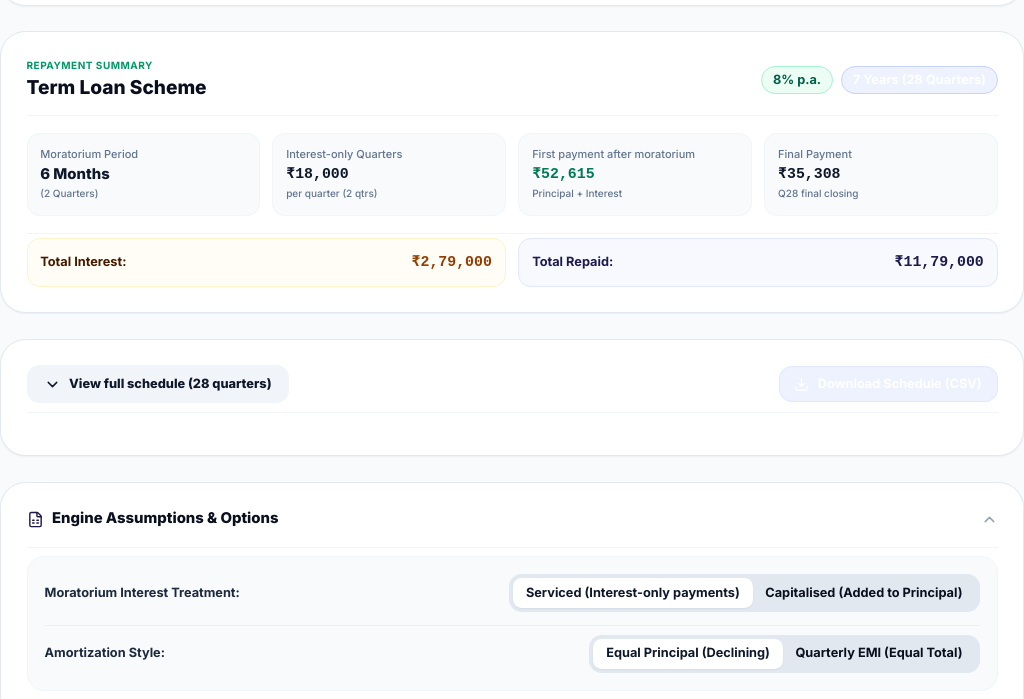
Test: SchemeLoanBreakdown Component › opens schedule on toggle, groups rows by year, verifies year totals equal sum of quarters, and marks moratoriums
(page scrolled)
Click toggle to open schedule
Click the button with test id "toggle-full-schedule" at (158, 384), box [26,365,288,404]
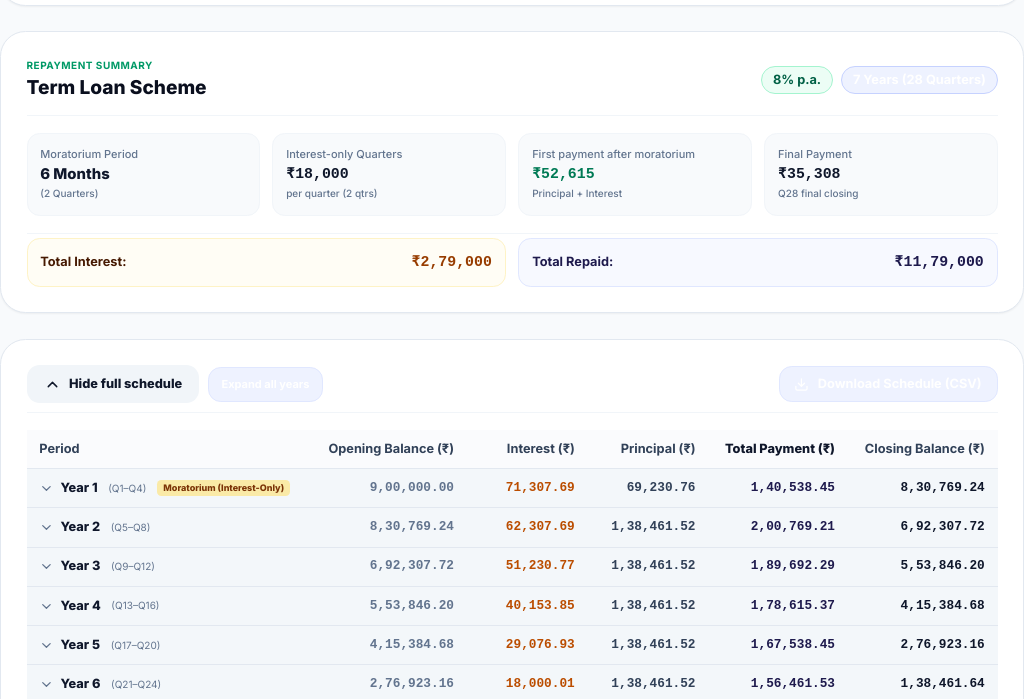
Result: the row with test id "year-row-1" is shown
Expand Year 1 row
Click the row with test id "year-row-1" at (512, 488), box [26,469,998,508]
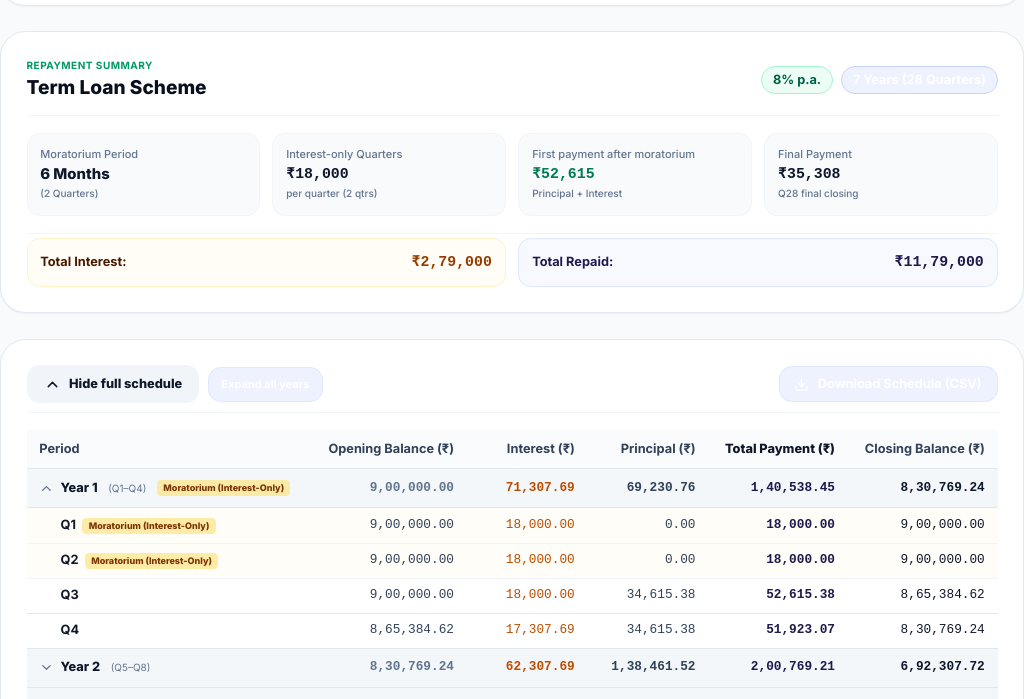
Result: the text with test id "badge-moratorium-1" is shown at [82,518,216,534]
Result: the text with test id "badge-moratorium-2" is shown at [85,553,218,569]
Test "Expand all years"
Click the button with test id "toggle-expand-all-years" at (265, 384), box [208,367,323,402]
(page scrolled)
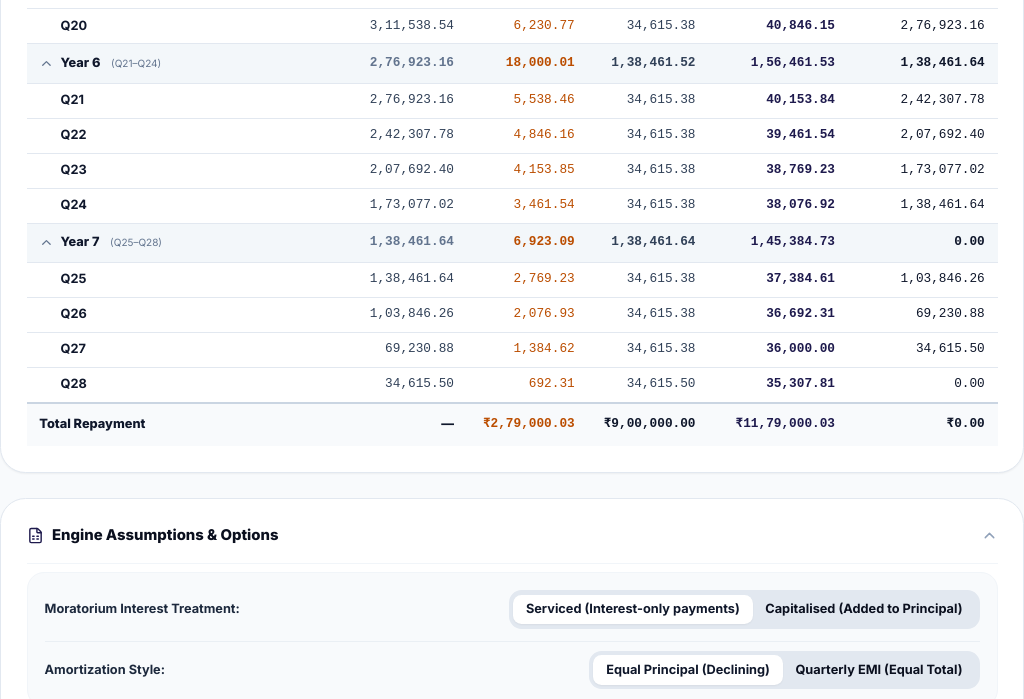
Result: the row with test id "row-quarter-28" is shown at [26,367,998,403]
